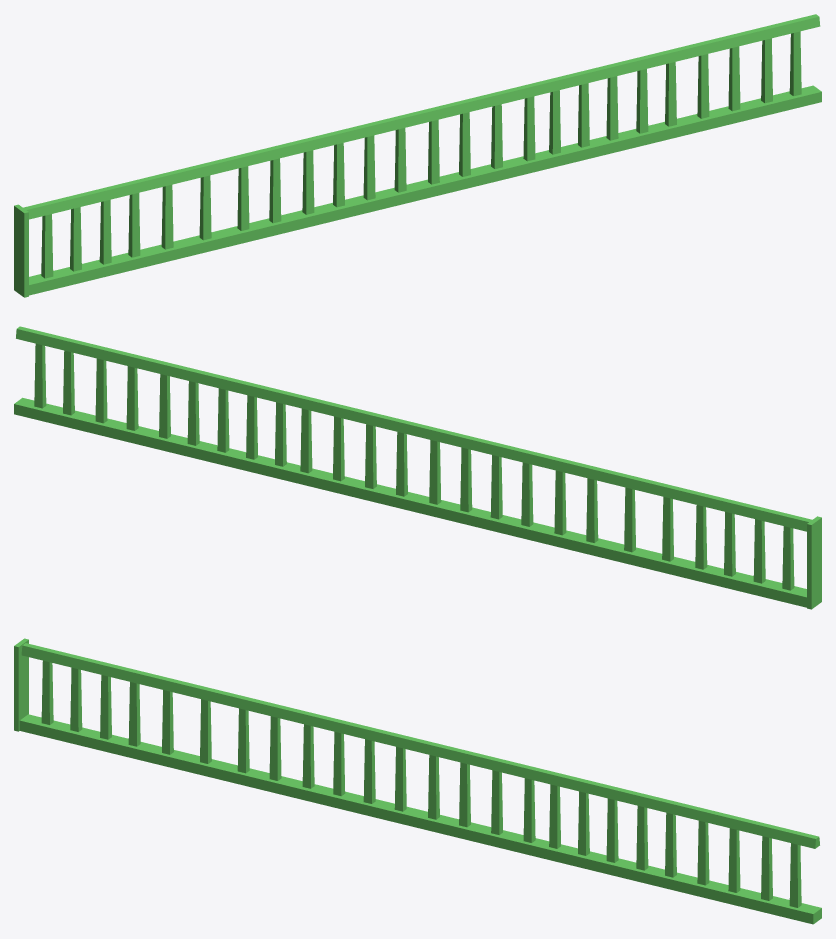
Rendered from Gen_Handrail_Mid_3x.fbx.
3 renders of one model, top to bottom at view 1: azimuth 30°, elevation 25°; view 2: azimuth 150°, elevation 25°; view 3: azimuth 330°, elevation 25°, orthographic.
Visible parts, largest first — view 1: Gen_Handrail_Mid_3x; view 2: Gen_Handrail_Mid_3x; view 3: Gen_Handrail_Mid_3x.
Part boxes in pixels (left/top/right/bottom): Gen_Handrail_Mid_3x: left=14, top=14, right=821, bottom=297; Gen_Handrail_Mid_3x: left=14, top=326, right=821, bottom=609; Gen_Handrail_Mid_3x: left=14, top=638, right=821, bottom=924.
Size of the model in its own units: 900 by 91.04 by 20.31.
